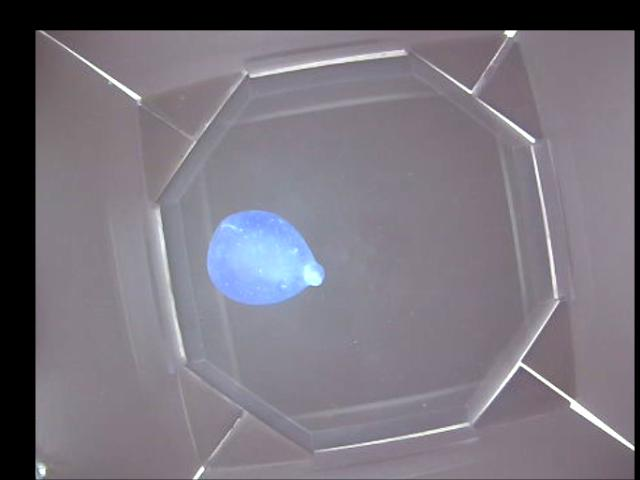Potato: (207, 210, 327, 308)
